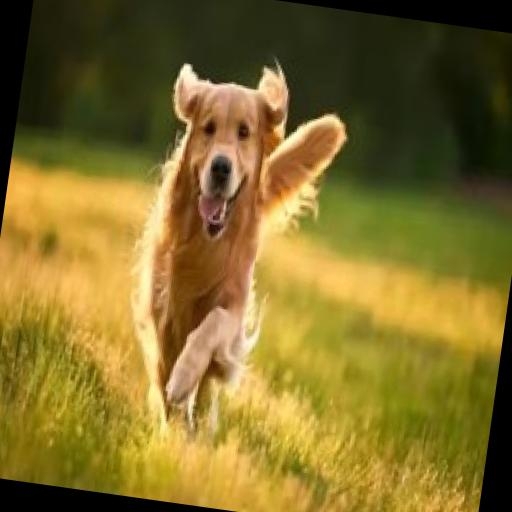dog: (103, 37, 362, 462)
